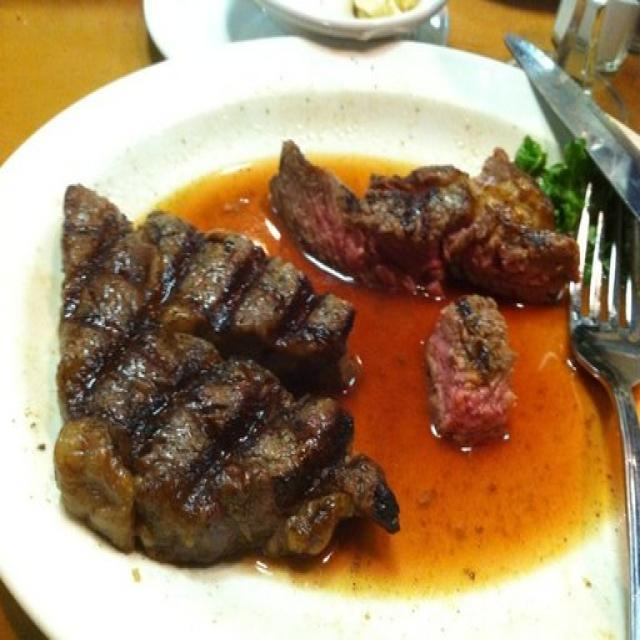Steak: (41, 157, 581, 567)
